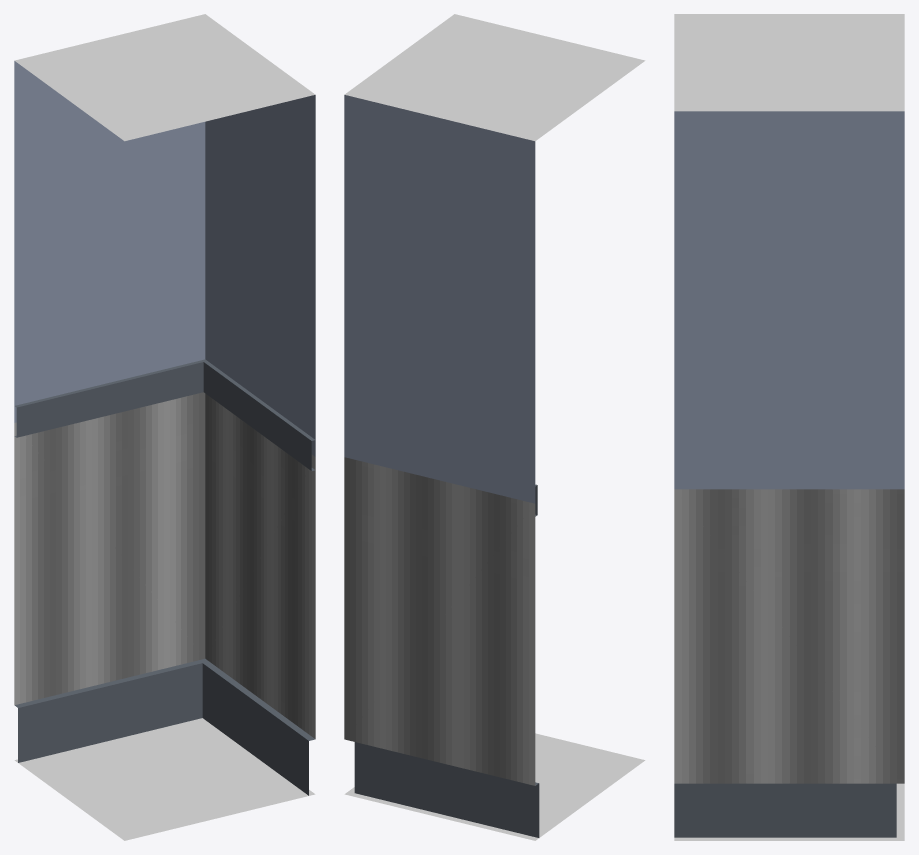
Rendered from roomA_wallCrnrInnr_mdl.fbx.
The picture shows the model from 3 angles, left to right: view 1: azimuth 30°, elevation 25°; view 2: azimuth 150°, elevation 25°; view 3: azimuth 270°, elevation 25°; orthographic projection. The views are drawn at different scales.
Visible parts, largest first — view 1: polySurface13, polySurface3, polySurface1; view 2: polySurface13, polySurface3, polySurface1; view 3: polySurface13, polySurface3, polySurface1.
Part boxes in pixels (x1=…): polySurface13: x1=14, y1=61, x2=315, y2=795; polySurface3: x1=14, y1=14, x2=315, y2=141; polySurface1: x1=14, y1=718, x2=315, y2=840; polySurface13: x1=344, y1=95, x2=539, y2=837; polySurface3: x1=344, y1=14, x2=645, y2=141; polySurface1: x1=344, y1=733, x2=645, y2=840; polySurface13: x1=674, y1=111, x2=904, y2=837; polySurface3: x1=674, y1=14, x2=904, y2=111; polySurface1: x1=674, y1=783, x2=904, y2=840.
Size of the model in its own units: 1 by 3.5 by 1.
